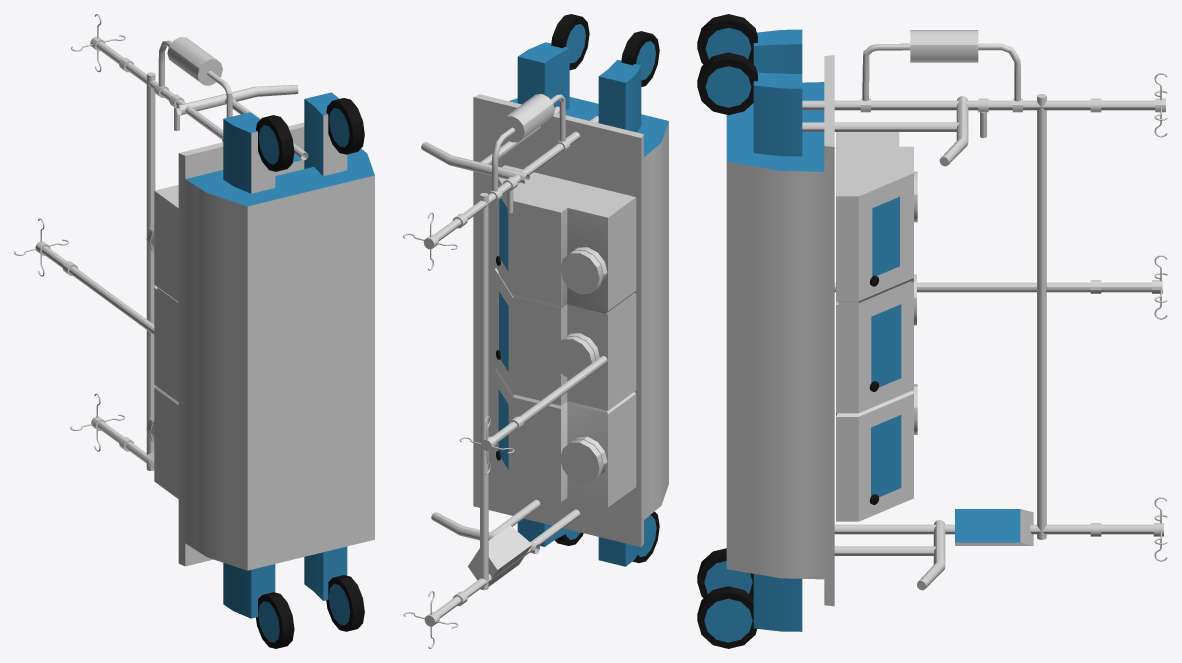
File: ЭКМО.fbx
3 renders of one model, left to right at view 1: azimuth 30°, elevation 25°; view 2: azimuth 150°, elevation 25°; view 3: azimuth 270°, elevation 25°, orthographic. The views are drawn at different scales.
Visible parts, largest first — view 1: Cube.001; view 2: Cube.001; view 3: Cube.001.
Boxes of the visible parts, <box> form: Cube.001: <box>14,14,374,648</box>; Cube.001: <box>403,14,668,648</box>; Cube.001: <box>697,14,1167,648</box>.
Size of the model in its own units: 39.48 by 106 by 76.61.
